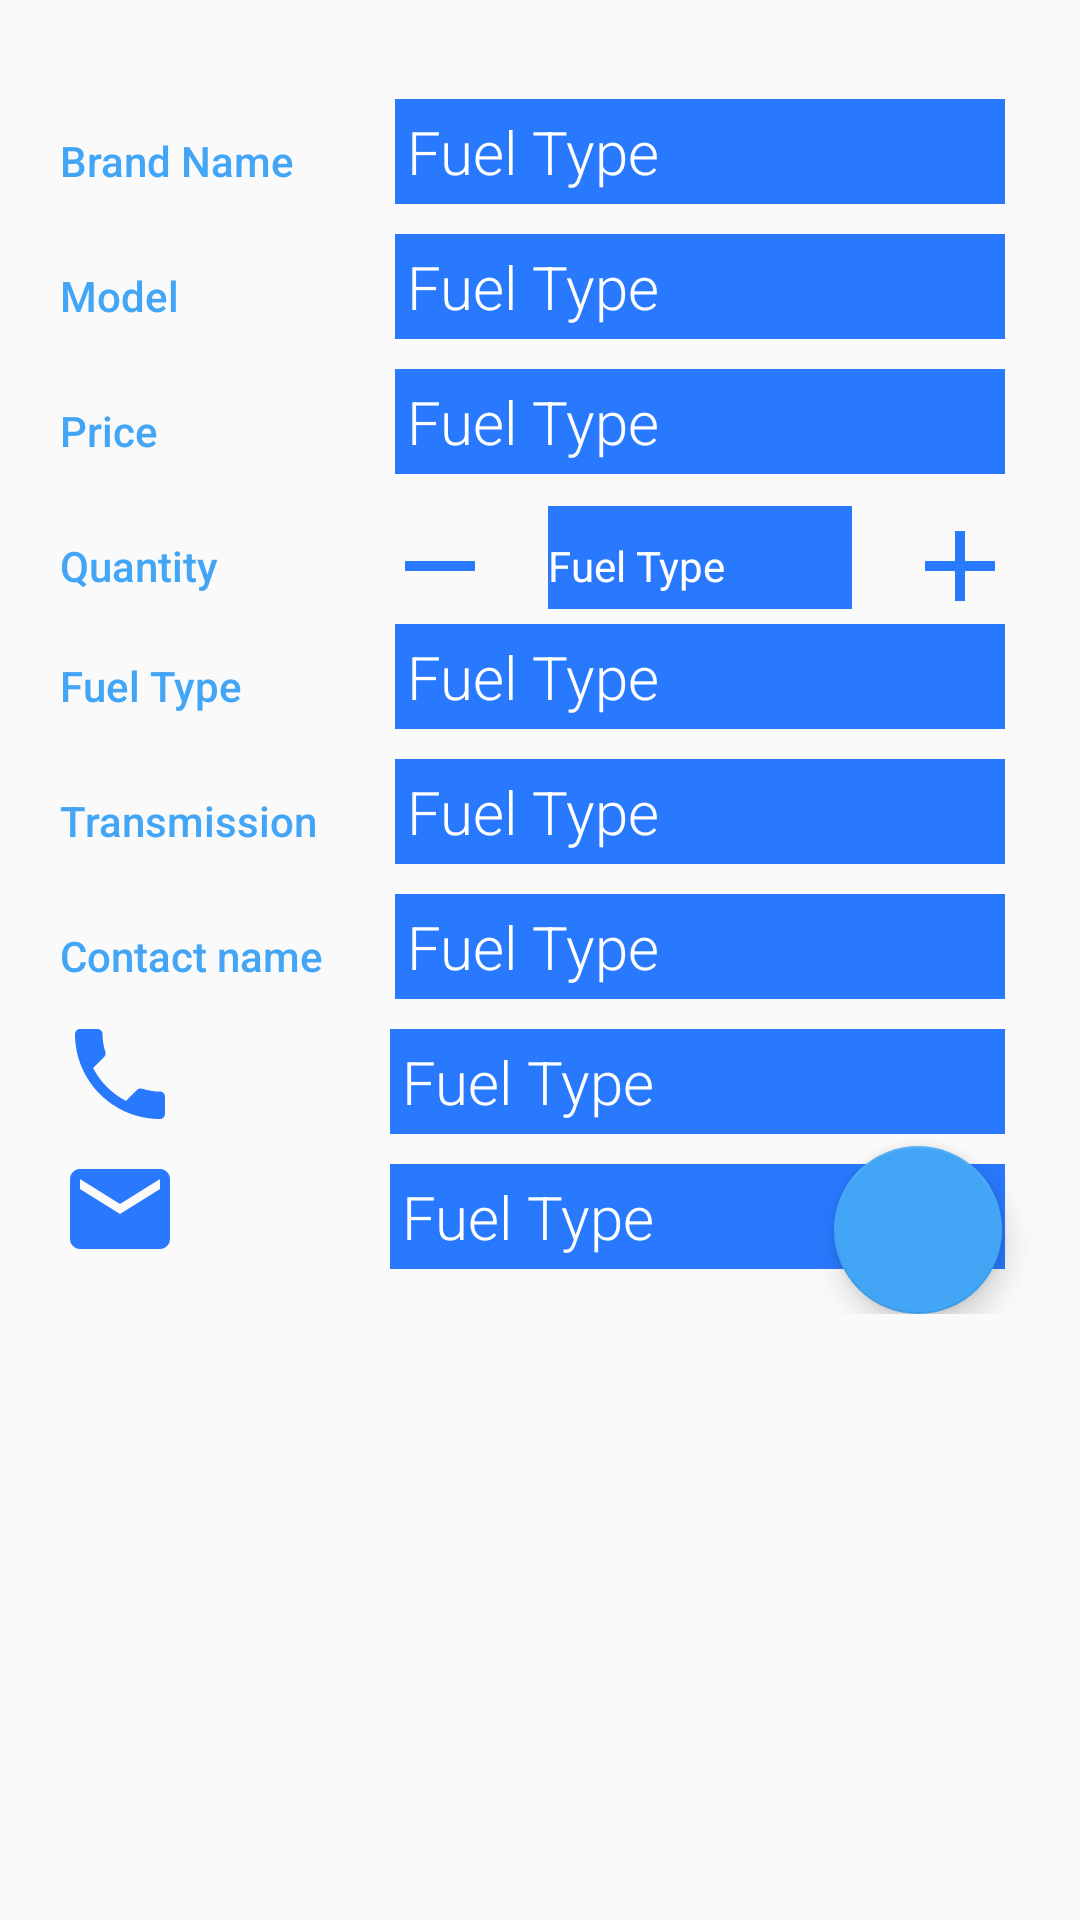

Where icons sit on this 1080px x 1920px app screen, as {"x1": x1, "y1": y1, "x2": x2, "y2": y2}:
call: {"x1": 75, "y1": 1029, "x2": 165, "y2": 1119}
email: {"x1": 70, "y1": 1169, "x2": 170, "y2": 1249}
